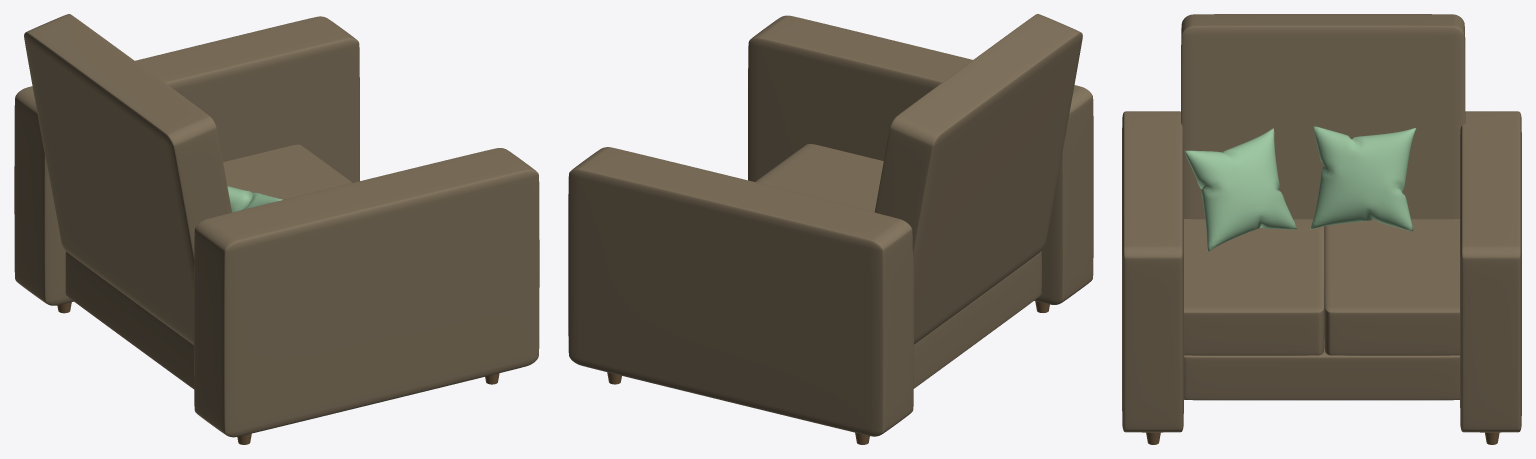
Rendered from SOFA.fbx.
3 views of the same model, side by side, from view 1: azimuth 30°, elevation 25°; view 2: azimuth 150°, elevation 25°; view 3: azimuth 270°, elevation 25° (orthographic). The views are drawn at different scales.
Parts seen in each view (by area): view 1: UPUAN, UNAN.001; view 2: UPUAN; view 3: UPUAN, UNAN, UNAN.001.
Boxes of the visible parts, x1,y1,x2,y2 form: UPUAN: (14,14,539,437); UNAN.001: (227,186,282,212); UPUAN: (568,14,1093,436); UPUAN: (1122,14,1521,432); UNAN: (1310,126,1416,231); UNAN.001: (1184,128,1296,251).
Size of the model in its own units: 489 by 436 by 533.
